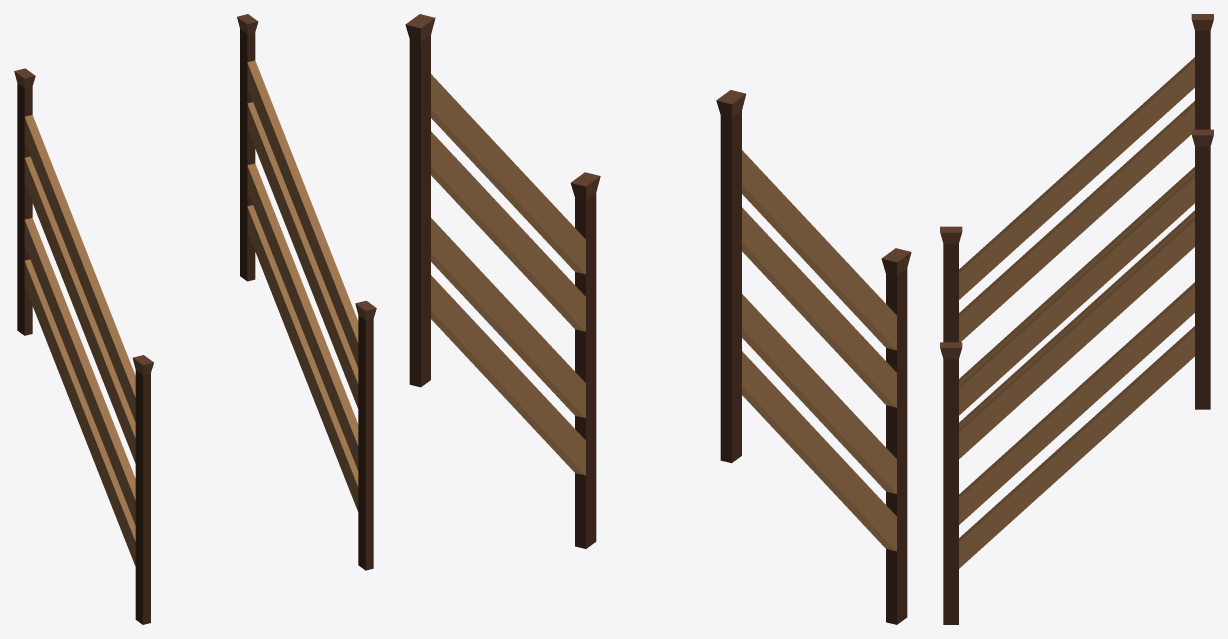
File: StairRailV1.fbx
3 views of the same model, side by side, from view 1: azimuth 30°, elevation 25°; view 2: azimuth 150°, elevation 25°; view 3: azimuth 270°, elevation 25° (orthographic). The views are drawn at different scales.
Visible parts, largest first — view 1: StairRailV1; view 2: StairRailV1; view 3: StairRailV1.
Part boxes in pixels (x1=…): StairRailV1: x1=14, y1=14, x2=376, y2=624; StairRailV1: x1=405, y1=14, x2=911, y2=624; StairRailV1: x1=940, y1=14, x2=1213, y2=624.
Bounding box in the file's own units: 97.98 × 185 × 93.32.
